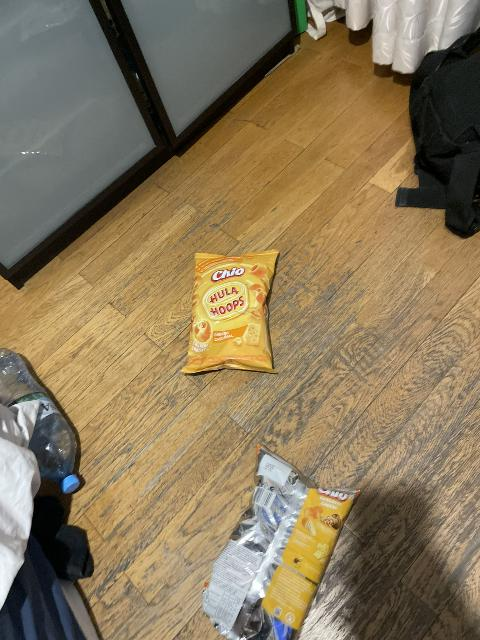Chio Cascaval 125g: (205, 441, 355, 639)
Chio Hula Hoops Cheese 70g: (180, 250, 281, 371)
